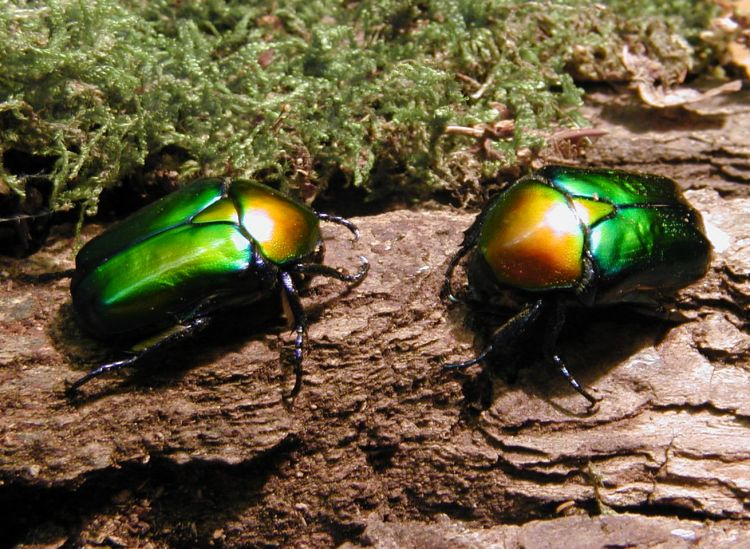Protaetia_speciosa_jousseliniw: (432, 157, 712, 408), (62, 168, 358, 398)
